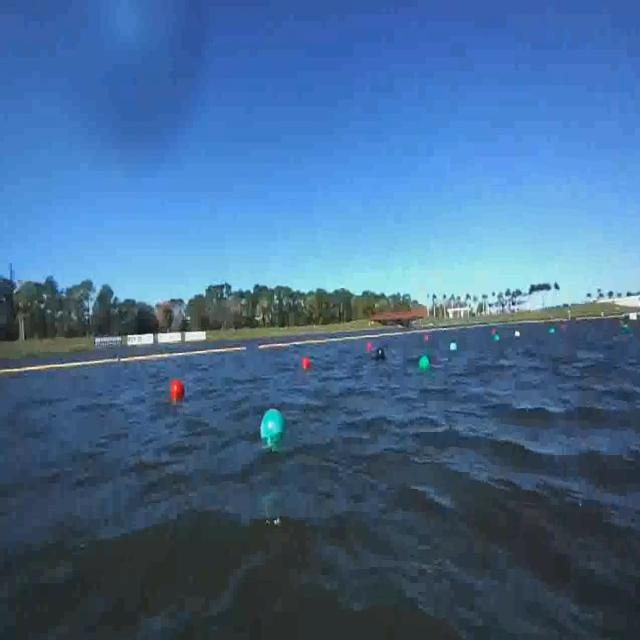black-buoy: (378, 348, 388, 361)
green-buoy: (263, 409, 287, 444), (420, 354, 430, 370)
red-buoy: (173, 377, 188, 400), (303, 357, 312, 369), (365, 343, 372, 353)
